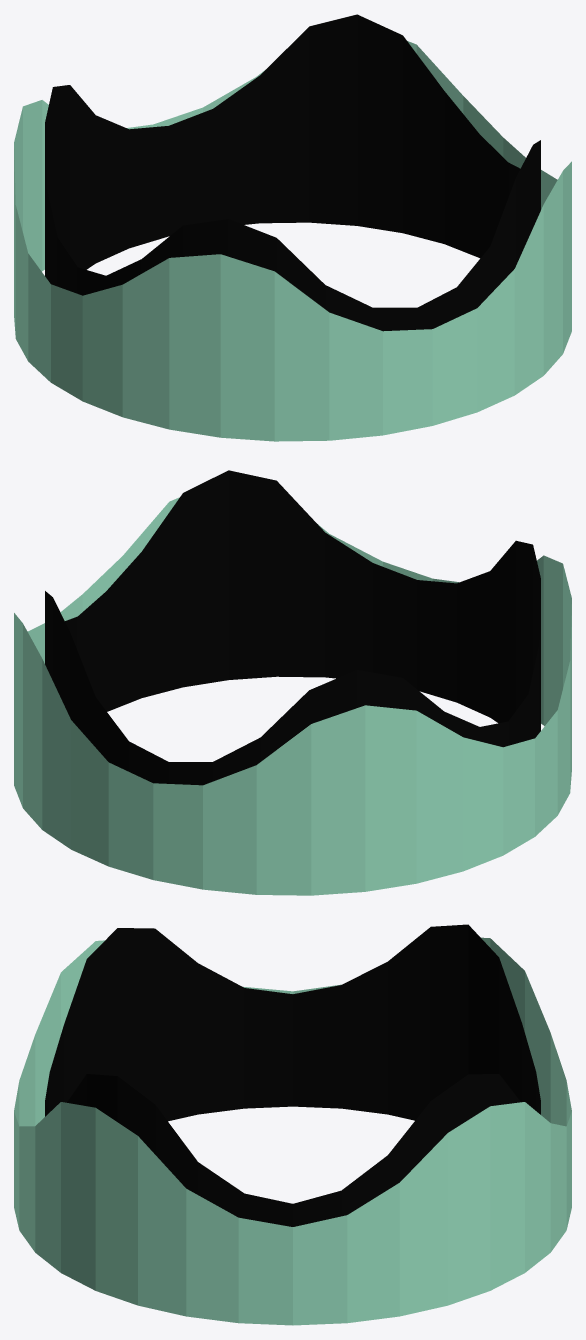
Rendered from LeftAura.glb.
3 views of the same model, one above another, from view 1: azimuth 30°, elevation 25°; view 2: azimuth 150°, elevation 25°; view 3: azimuth 270°, elevation 25° (orthographic).
Visible parts, largest first — view 1: aura, aura.001; view 2: aura, aura.001; view 3: aura.001, aura.
Boxes of the visible parts, <box> form: aura: <box>45,14,540,331</box>; aura.001: <box>14,41,571,441</box>; aura: <box>45,470,540,785</box>; aura.001: <box>14,497,571,895</box>; aura.001: <box>14,937,571,1325</box>; aura: <box>45,924,540,1226</box>.
Size of the model in its own units: 1.12 by 0.4734 by 1.12.
1 material, 1 textured.
